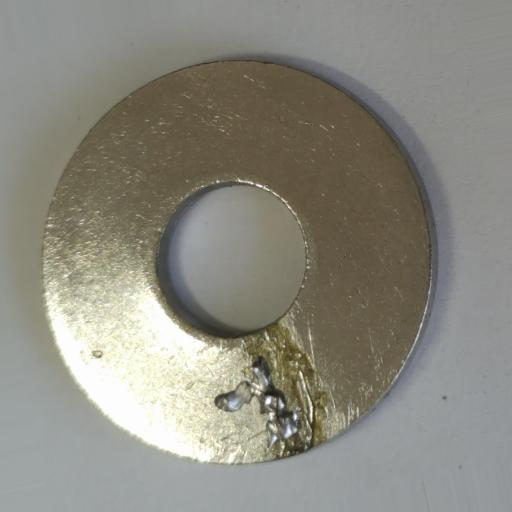excess_material: (214, 353, 301, 450)
